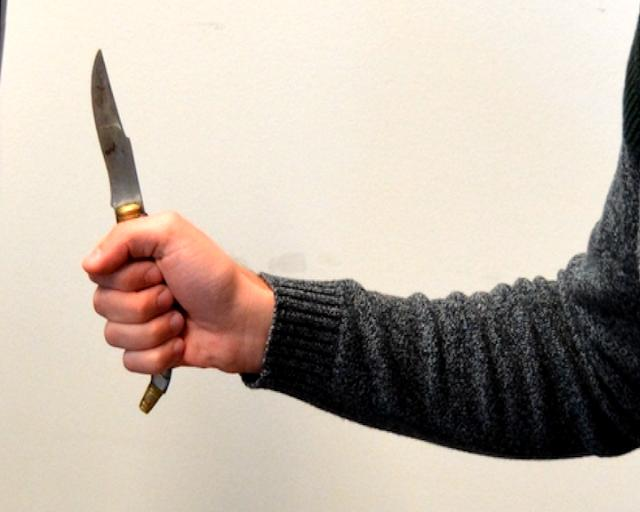pocket-knife: (57, 42, 187, 350)
